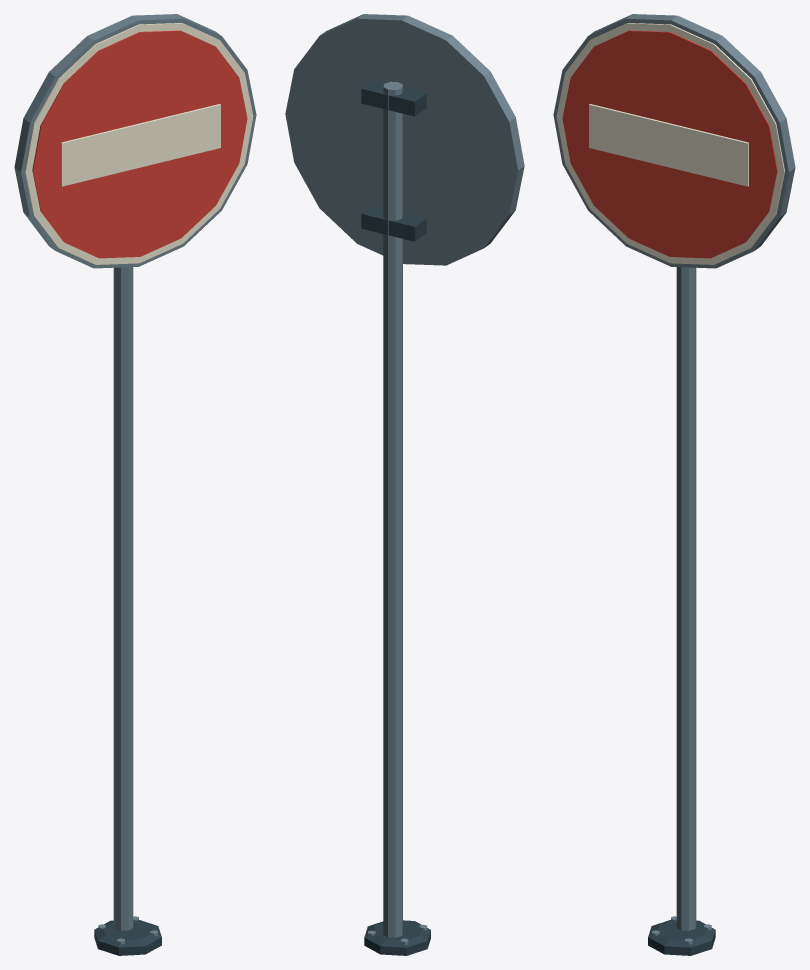
File: sign_no_entry.glb
The picture shows the model from 3 angles, left to right: view 1: azimuth 30°, elevation 25°; view 2: azimuth 150°, elevation 25°; view 3: azimuth 330°, elevation 25°; orthographic projection.
Visible parts, largest first — view 1: sign_no_entry; view 2: sign_no_entry; view 3: sign_no_entry.
Part boxes in pixels (left/top/right/bottom): sign_no_entry: left=14, top=14, right=256, bottom=955; sign_no_entry: left=285, top=14, right=524, bottom=955; sign_no_entry: left=553, top=14, right=795, bottom=955.
Size of the model in its own units: 0.74 by 2.79 by 0.19.
